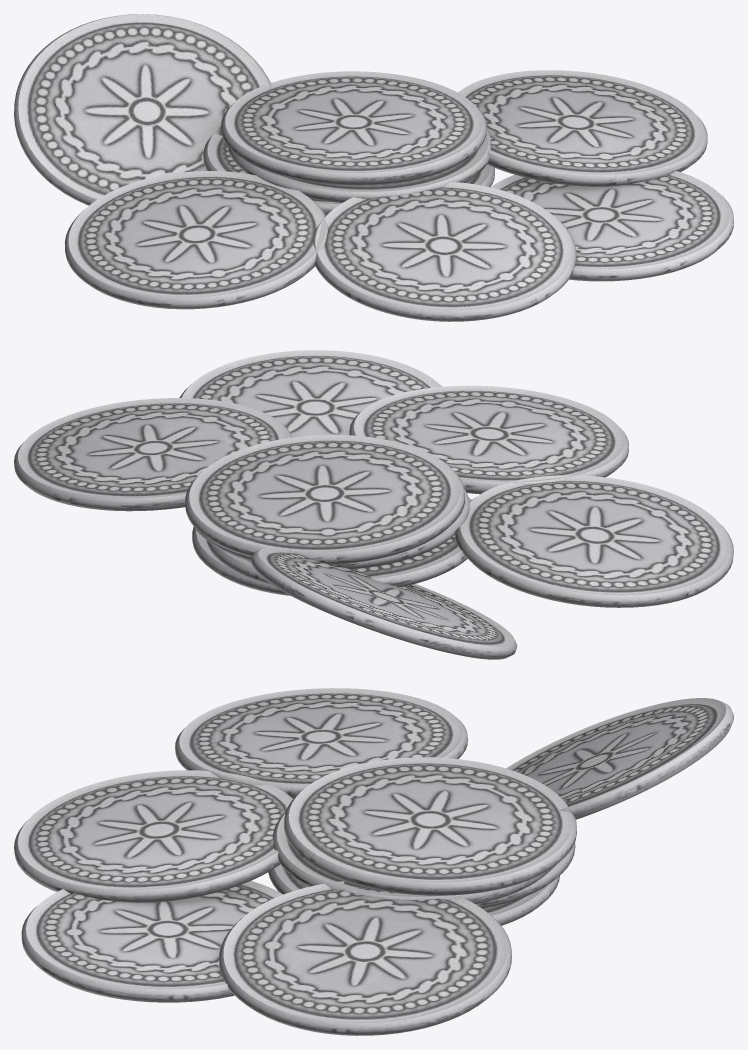
File: silver_coin.glb
3 renders of one model, top to bottom at view 1: azimuth 30°, elevation 25°; view 2: azimuth 150°, elevation 25°; view 3: azimuth 270°, elevation 25°, orthographic. The views are drawn at different scales.
Visible parts, largest first — view 1: silver_coin; view 2: silver_coin; view 3: silver_coin.
Part boxes in pixels (x1,y1,x2,y2): silver_coin: (14,14,733,321); silver_coin: (14,350,733,659); silver_coin: (14,688,733,1035).
Size of the model in its own units: 0.06 by 0.0097 by 0.0541.
1 material, 1 textured.
